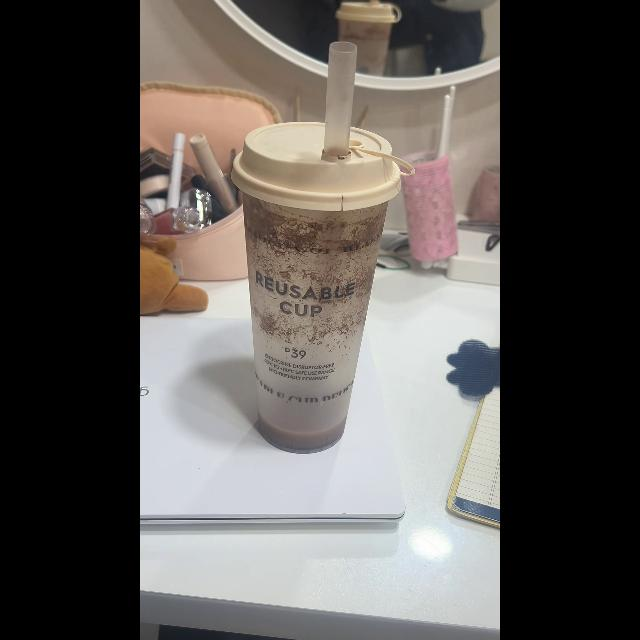dirty: (232, 121, 406, 451)
